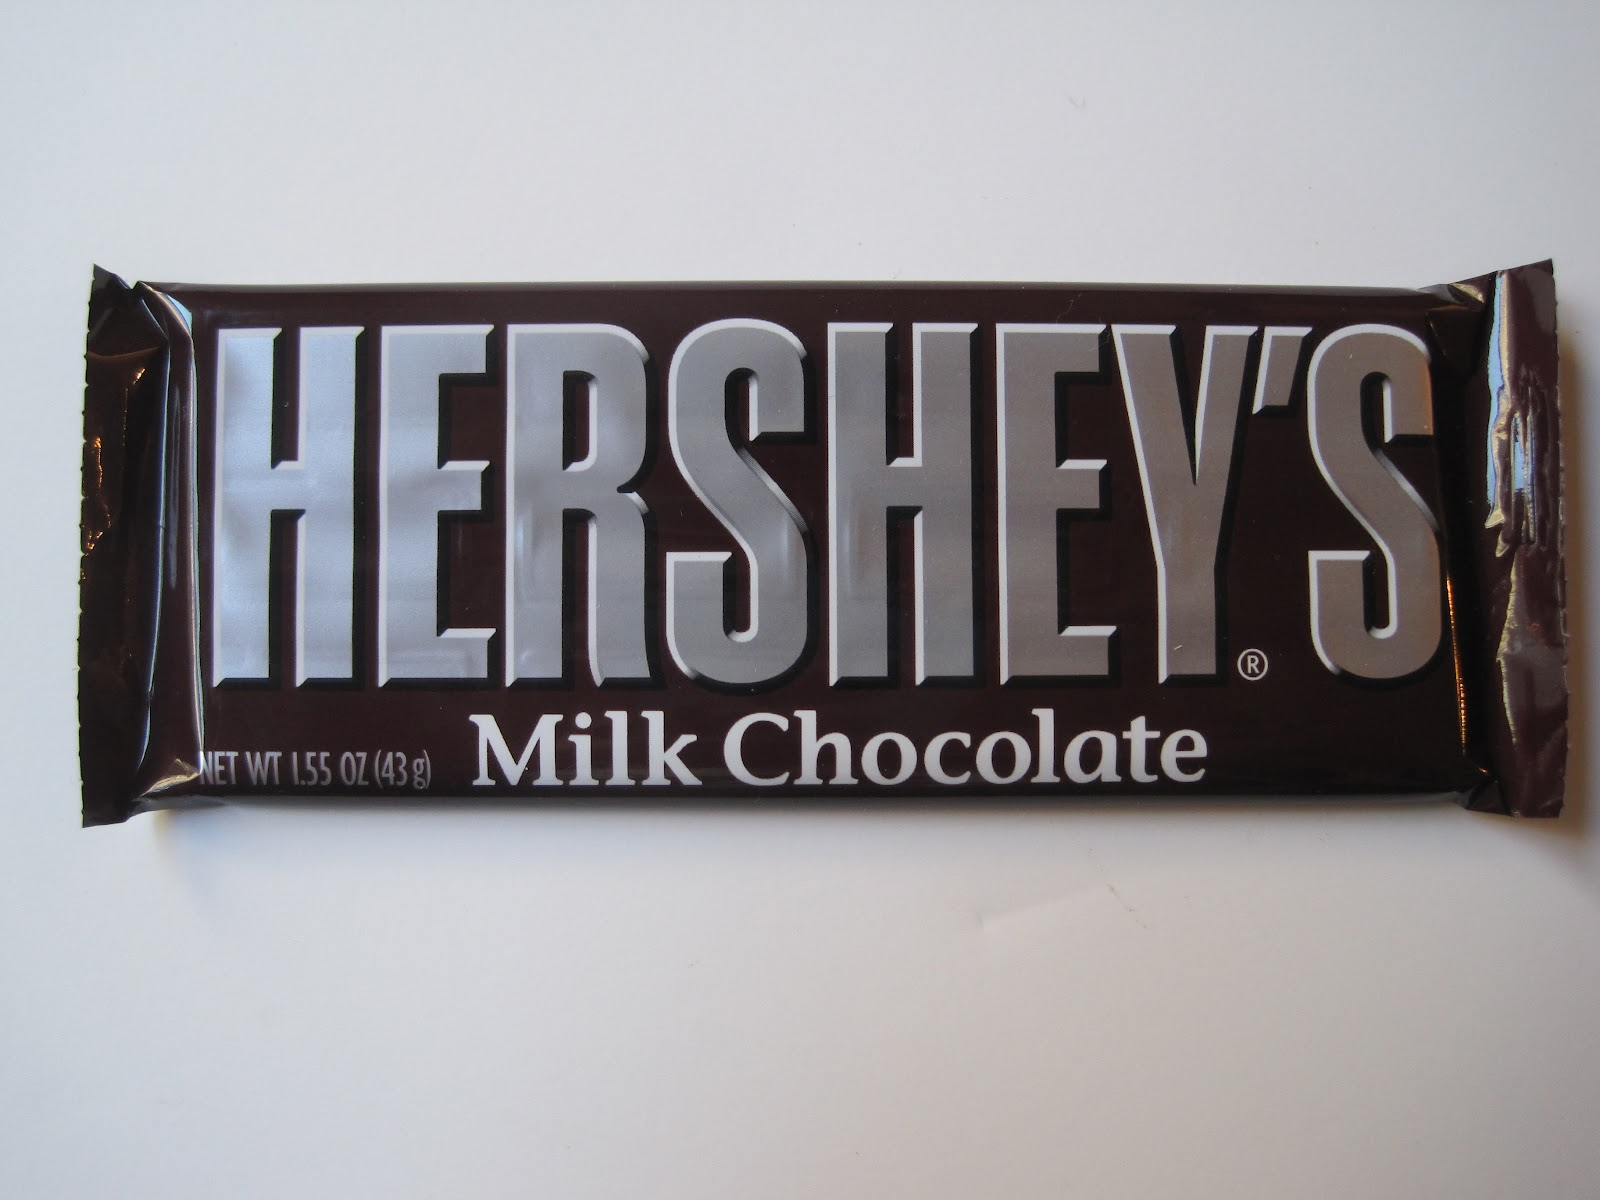hershey: (86, 268, 1566, 819)
